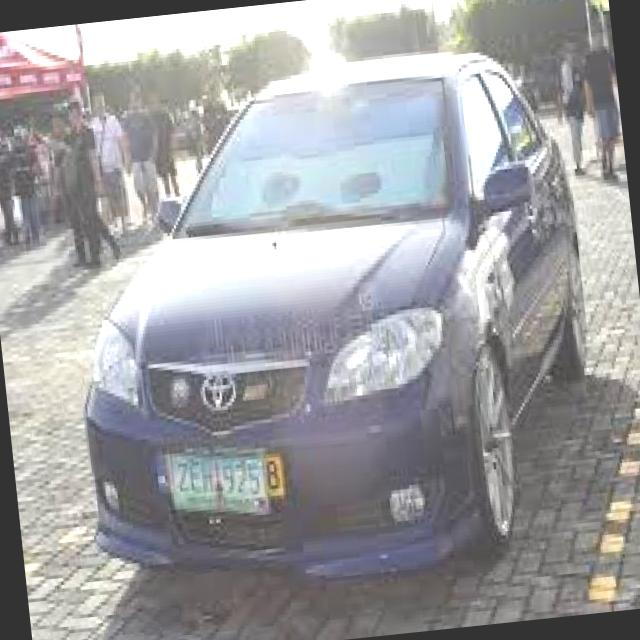ToyotaVios: (45, 34, 612, 608)
